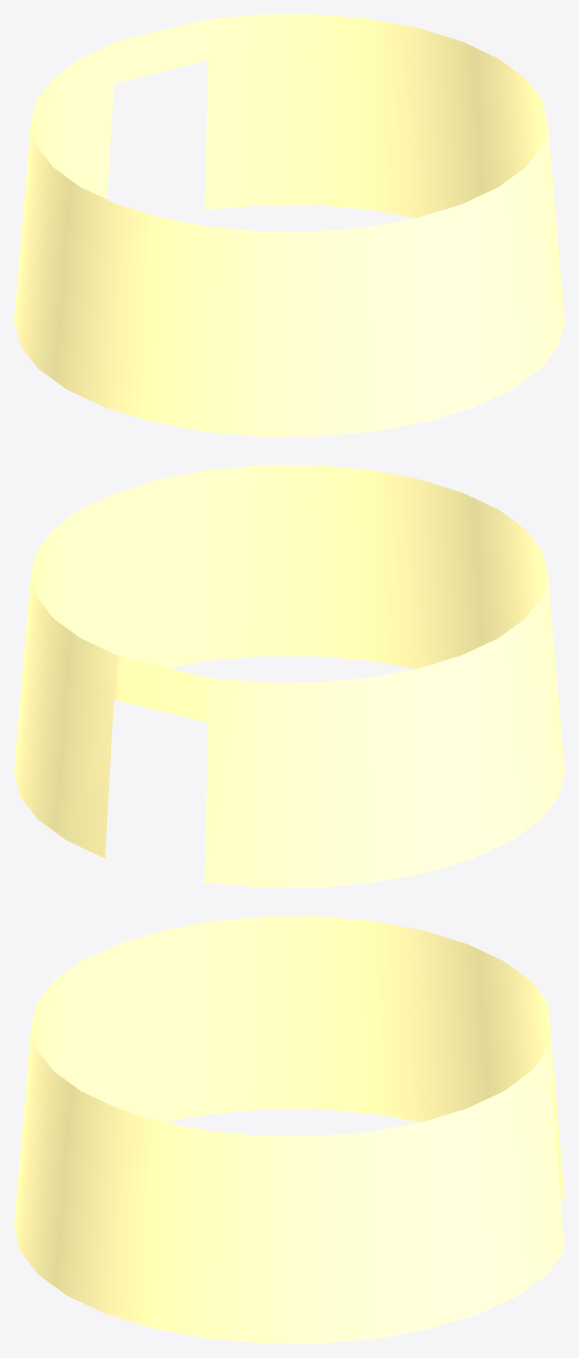
File: wall4.glb
3 views of the same model, one above another, from view 1: azimuth 30°, elevation 25°; view 2: azimuth 150°, elevation 25°; view 3: azimuth 270°, elevation 25° (orthographic).
Parts seen in each view (by area): view 1: wall4; view 2: wall4; view 3: wall4.
Boxes of the visible parts, bbox=[...] form: wall4: bbox=[14, 14, 564, 436]; wall4: bbox=[14, 465, 564, 887]; wall4: bbox=[14, 916, 564, 1343].
Size of the model in its own units: 20.09 by 8.02 by 19.98.
